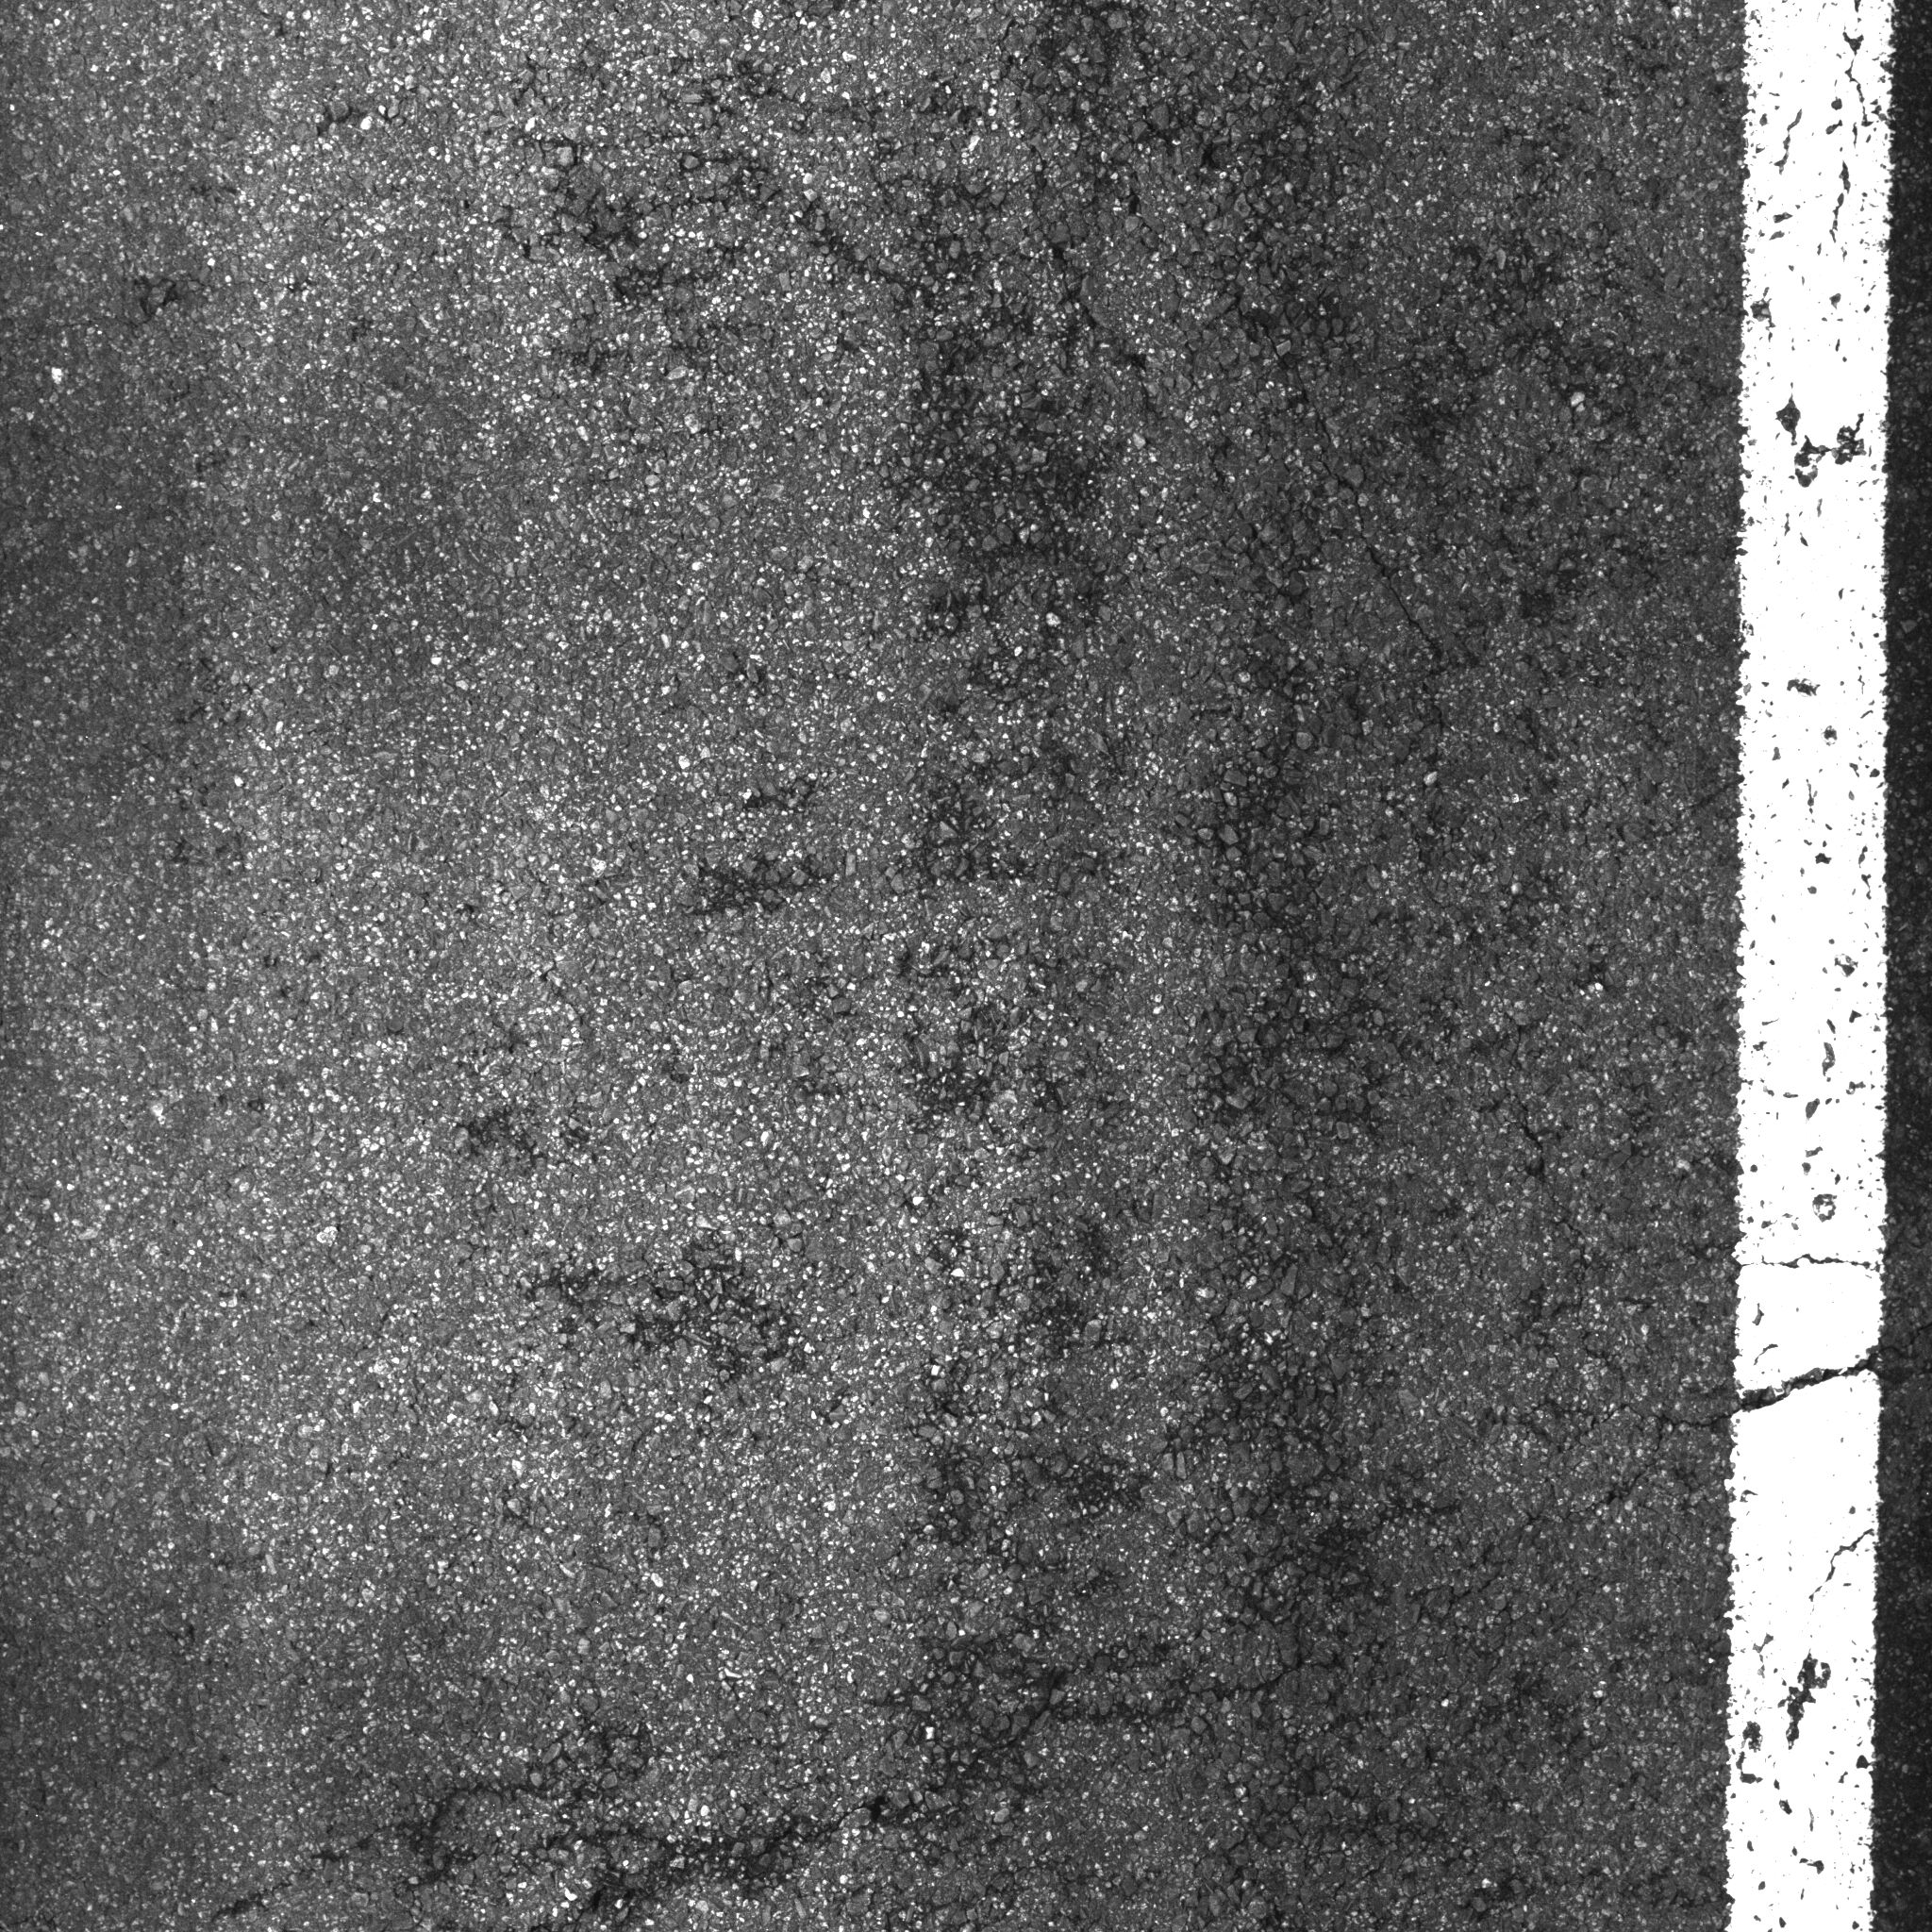transeverse: (195, 1352, 1921, 1925)
